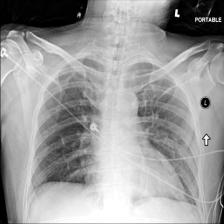normal: (27, 49, 203, 213)
